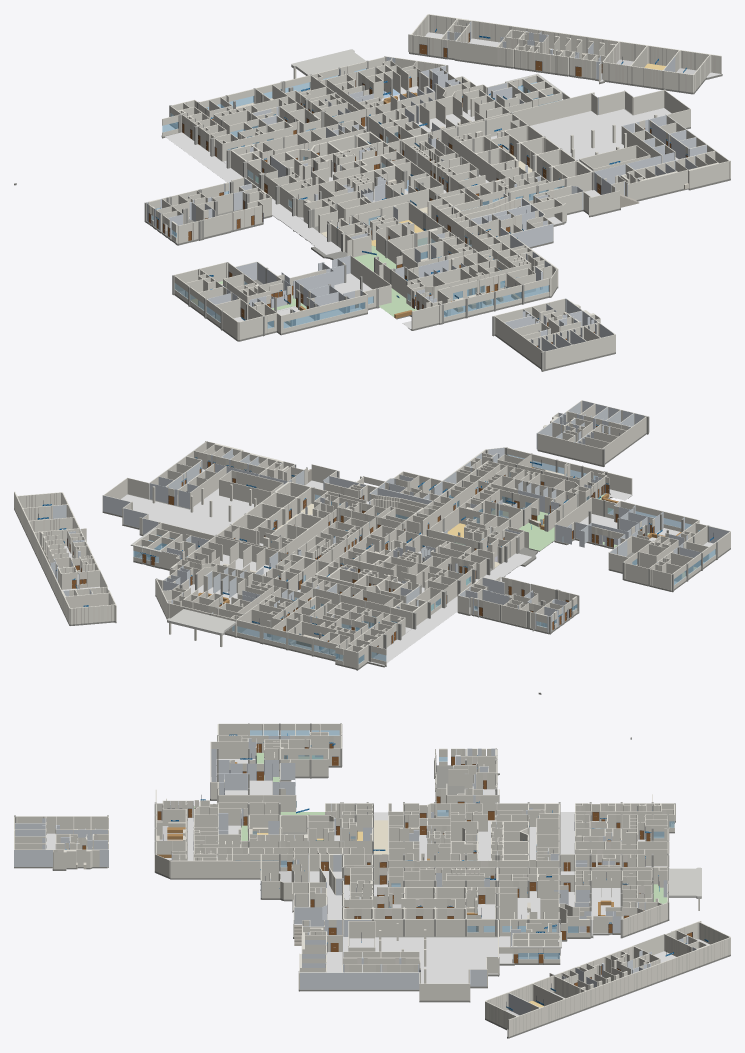
File: solca_pb_este.glb
The picture shows the model from 3 angles, top to bottom: view 1: azimuth 30°, elevation 25°; view 2: azimuth 150°, elevation 25°; view 3: azimuth 270°, elevation 25°; orthographic projection. The views are drawn at different scales.
Parts seen in each view (by area): view 1: muros|0.902,0.884,0.810|0.00, muros|0.810,0.865,0.922|0.00, pisos|0.865,0.865,0.865|0.00, muros|0.462,0.462,0.436|0.00, muros|0.303,0.608,0.846|0.60, pisos|0.384,0.384,0.360|0.00, muros|0.360,0.160,0.053|0.00, muros|0.102,0.109,0.130|0.00, viseras|0.740,0.740,0.706|0.00, pisos|0.608,0.810,0.548|0.00; view 2: muros|0.902,0.884,0.810|0.00, muros|0.810,0.865,0.922|0.00, pisos|0.865,0.865,0.865|0.00, muros|0.462,0.462,0.436|0.00, muros|0.303,0.608,0.846|0.60, pisos|0.384,0.384,0.360|0.00, muros|0.360,0.160,0.053|0.00, viseras|0.740,0.740,0.706|0.00, muros|0.102,0.109,0.130|0.00, pisos|0.608,0.810,0.548|0.00, letreros|0.002,0.130,0.423|0.00; view 3: muros|0.902,0.884,0.810|0.00, muros|0.810,0.865,0.922|0.00, pisos|0.865,0.865,0.865|0.00, pisos|0.384,0.384,0.360|0.00, muros|0.462,0.462,0.436|0.00, muros|0.360,0.160,0.053|0.00, muros|0.303,0.608,0.846|0.60, viseras|0.740,0.740,0.706|0.00, muros|0.102,0.109,0.130|0.00, pisos|0.608,0.810,0.548|0.00, muebles|0.865,0.828,0.740|0.00, pisos|0.922,0.865,0.706|0.00.
Part boxes in pixels (box(x1,y1,x2,y2)): muros|0.902,0.884,0.810|0.00: box(148, 14, 730, 369); muros|0.810,0.865,0.922|0.00: box(147, 21, 721, 351); pisos|0.865,0.865,0.865|0.00: box(165, 32, 721, 329); muros|0.462,0.462,0.436|0.00: box(144, 56, 594, 370); muros|0.303,0.608,0.846|0.60: box(151, 68, 564, 328); pisos|0.384,0.384,0.360|0.00: box(14, 42, 730, 371); muros|0.360,0.160,0.053|0.00: box(149, 33, 687, 346); muros|0.102,0.109,0.130|0.00: box(148, 32, 687, 346); viseras|0.740,0.740,0.706|0.00: box(291, 49, 564, 94); pisos|0.608,0.810,0.548|0.00: box(218, 177, 416, 316); muros|0.902,0.884,0.810|0.00: box(14, 400, 730, 668); muros|0.810,0.865,0.922|0.00: box(50, 400, 729, 632); pisos|0.865,0.865,0.865|0.00: box(62, 469, 714, 665); muros|0.462,0.462,0.436|0.00: box(156, 416, 717, 668); muros|0.303,0.608,0.846|0.60: box(133, 454, 715, 663); pisos|0.384,0.384,0.360|0.00: box(14, 433, 730, 694); muros|0.360,0.160,0.053|0.00: box(67, 420, 654, 654); viseras|0.740,0.740,0.706|0.00: box(130, 527, 236, 635); muros|0.102,0.109,0.130|0.00: box(55, 419, 654, 646); pisos|0.608,0.810,0.548|0.00: box(431, 494, 649, 610); letreros|0.002,0.130,0.423|0.00: box(37, 424, 713, 636); muros|0.902,0.884,0.810|0.00: box(14, 723, 730, 1036); muros|0.810,0.865,0.922|0.00: box(14, 736, 696, 1015); pisos|0.865,0.865,0.865|0.00: box(46, 744, 709, 1036); pisos|0.384,0.384,0.360|0.00: box(14, 737, 730, 1038); muros|0.462,0.462,0.436|0.00: box(14, 723, 675, 936); muros|0.360,0.160,0.053|0.00: box(82, 744, 692, 986); muros|0.303,0.608,0.846|0.60: box(236, 730, 674, 959); viseras|0.740,0.740,0.706|0.00: box(510, 867, 701, 948); muros|0.102,0.109,0.130|0.00: box(69, 743, 692, 984); pisos|0.608,0.810,0.548|0.00: box(194, 753, 667, 903); muebles|0.865,0.828,0.740|0.00: box(74, 755, 673, 973); pisos|0.922,0.865,0.706|0.00: box(357, 820, 388, 918).
Size of the model in its own units: 147 by 4.2 by 148.
